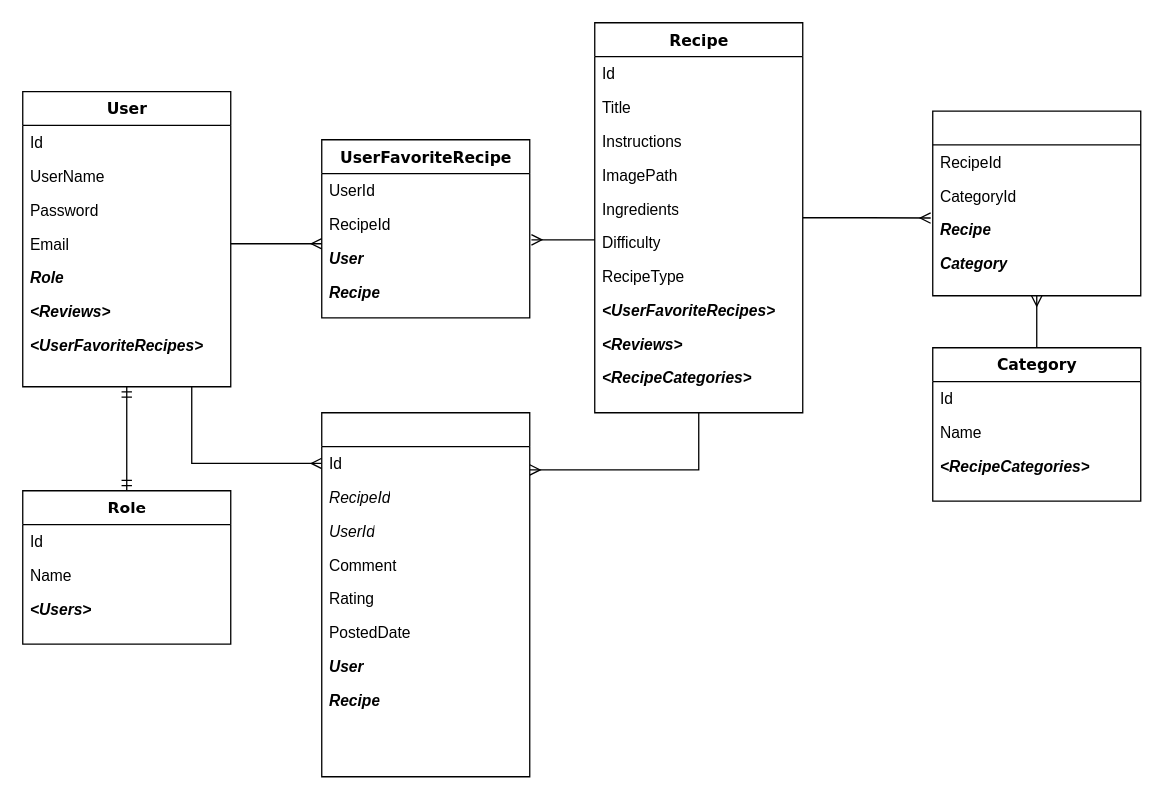
Some shapes in this 1164 by 800 pixel diagram are drawn without their labels. The box of each missing label's shape, as (x1, y1, x2, y2) in pixels:
RecipeCategory: (931, 110, 1141, 296)
Review: (320, 411, 530, 777)
